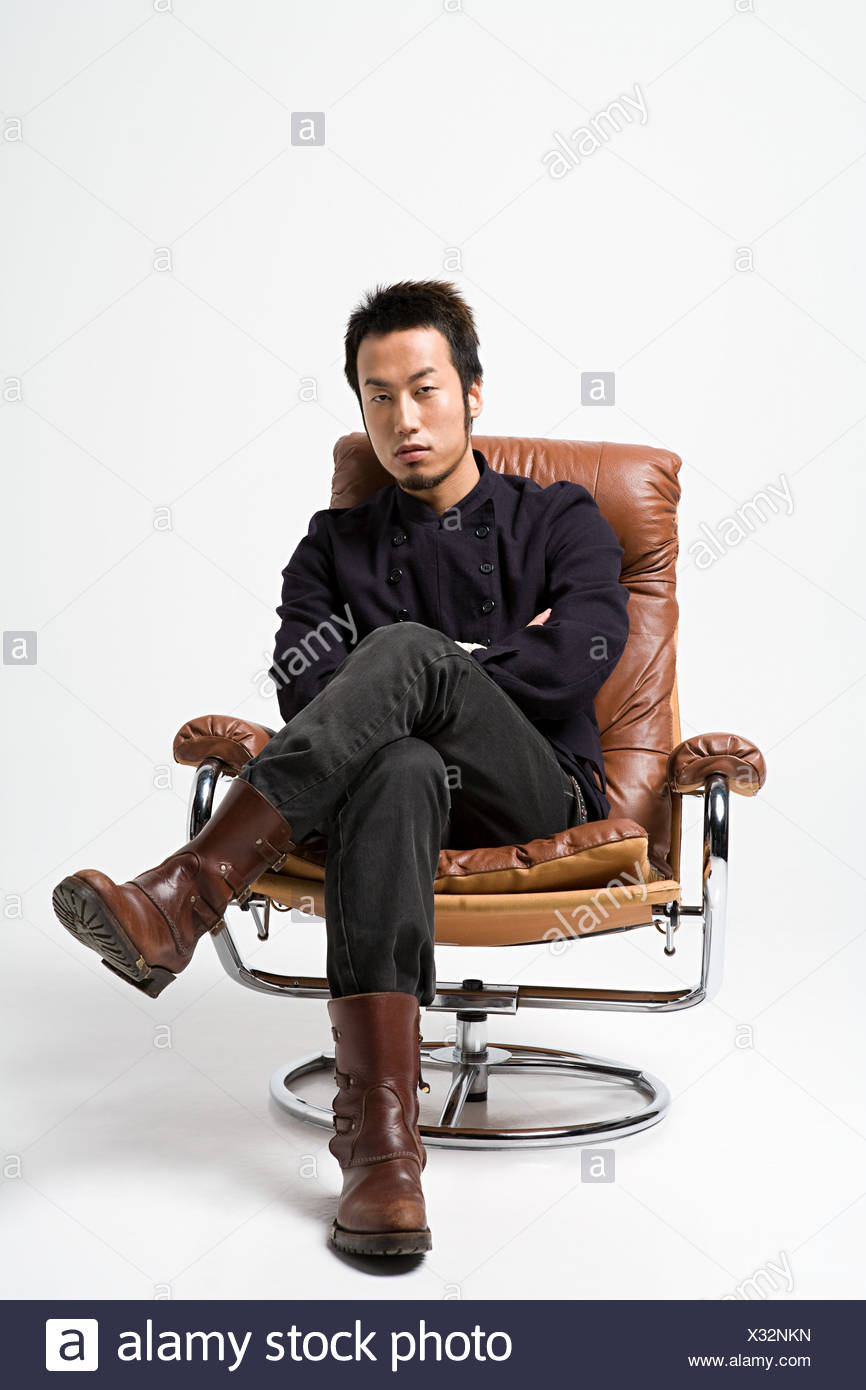chairs: (170, 433, 770, 1154)
